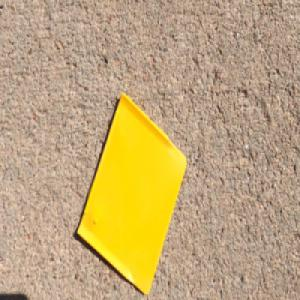PlasticPart: (75, 90, 188, 297)
